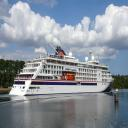cruises: (9, 41, 116, 96)
